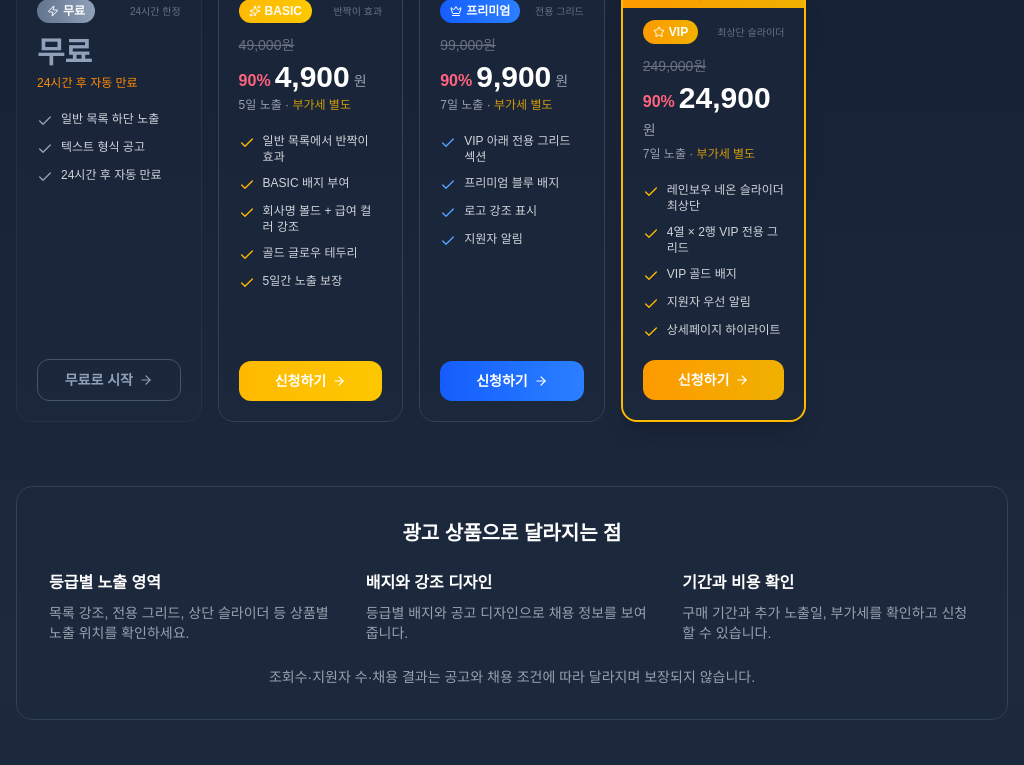
Test: real advertisement target selection › shows an empty state and creates a job before purchasing
(page scrolled)
Click the button "신청하기" below "5일간 노출 보장": (310, 381) [239,361,382,401]
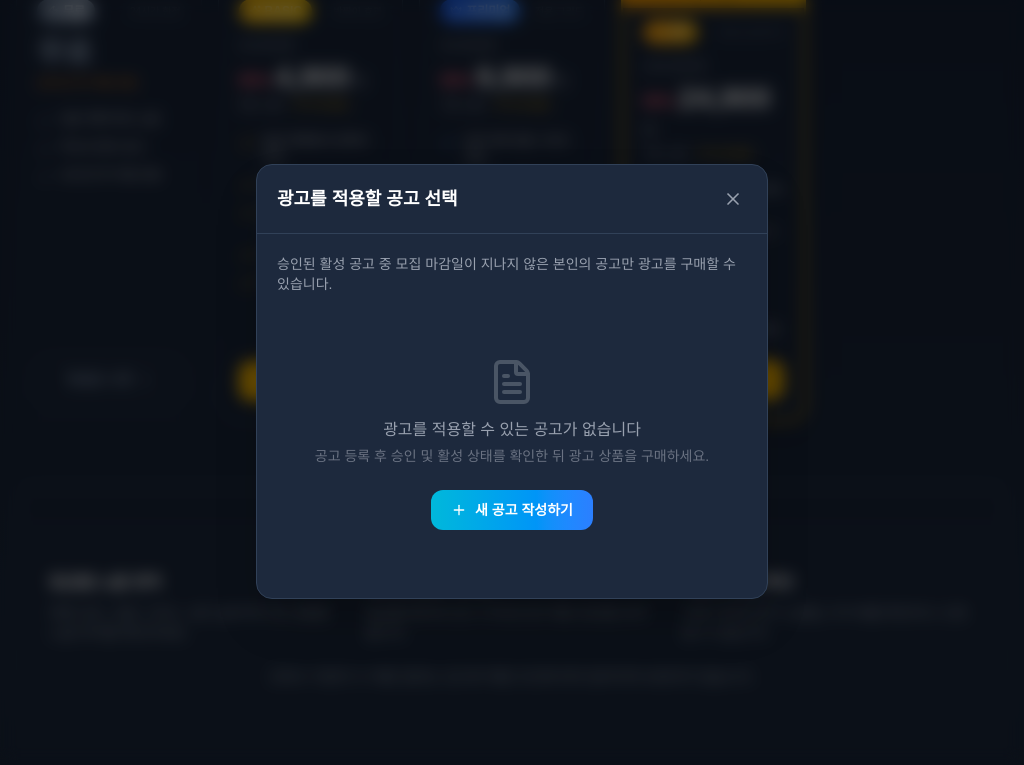
Expected: the text "광고를 적용할 수 있는 공고가 없습니다" is shown, [383,418,641,442]
